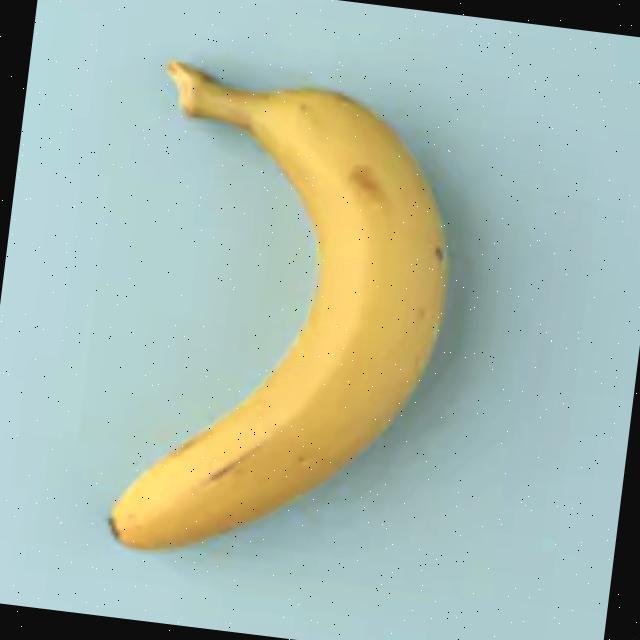Ripe: (50, 41, 507, 590)
